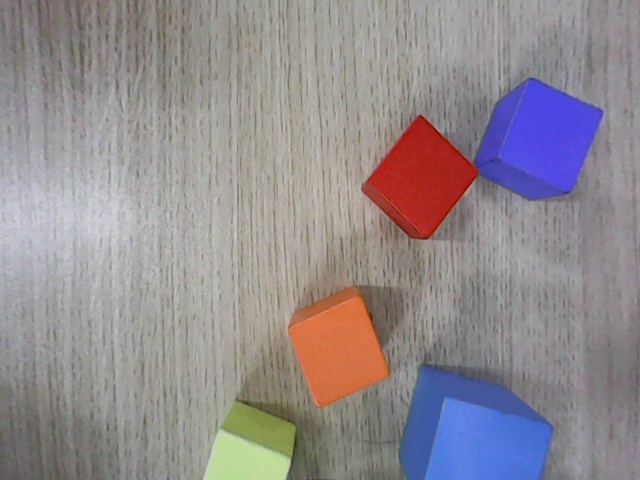upside of big cube: (423, 397, 553, 479)
upside of small cube: (368, 113, 480, 240), (498, 78, 605, 195), (286, 296, 391, 408), (201, 430, 293, 479)
